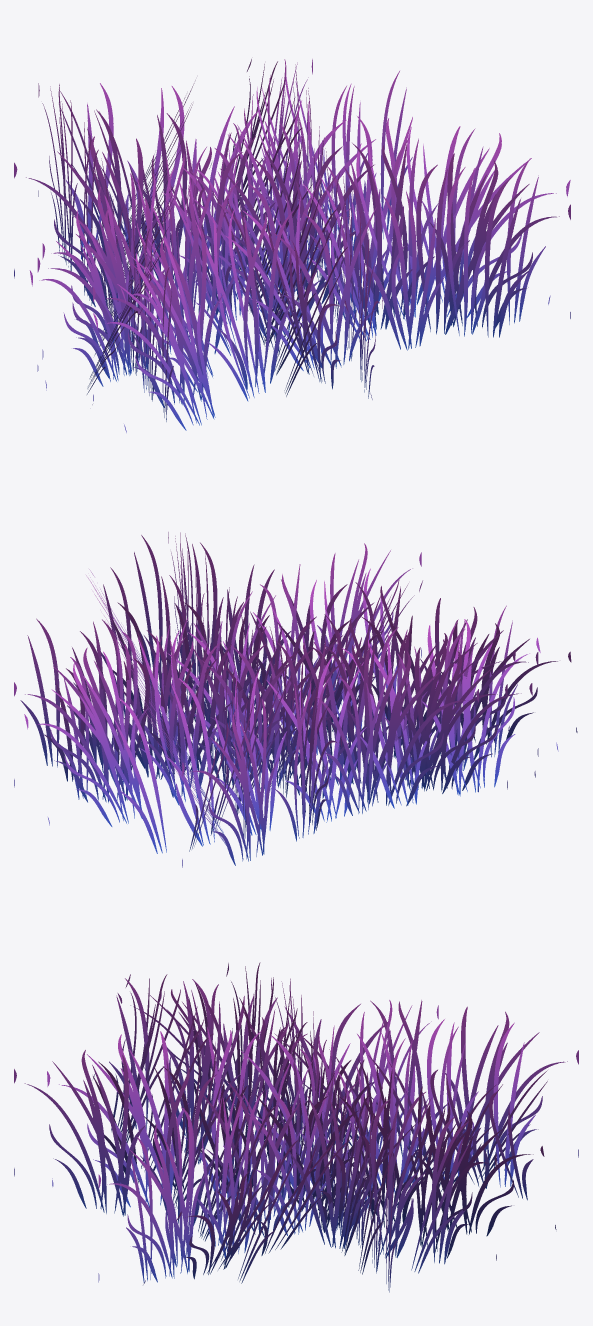
Rendered from GrassPatch_Mid_A.FBX.
3 renders of one model, top to bottom at view 1: azimuth 30°, elevation 25°; view 2: azimuth 150°, elevation 25°; view 3: azimuth 270°, elevation 25°, orthographic. The views are drawn at different scales.
Visible parts, largest first — view 1: GrassPatch_Mid_A; view 2: GrassPatch_Mid_A; view 3: GrassPatch_Mid_A.
Part boxes in pixels (x1,y1,x2,y2): GrassPatch_Mid_A: (14, 59, 570, 432); GrassPatch_Mid_A: (14, 532, 577, 867); GrassPatch_Mid_A: (14, 962, 578, 1292).
Bounding box in the file's own units: 2.19 × 0.7599 × 2.16.
